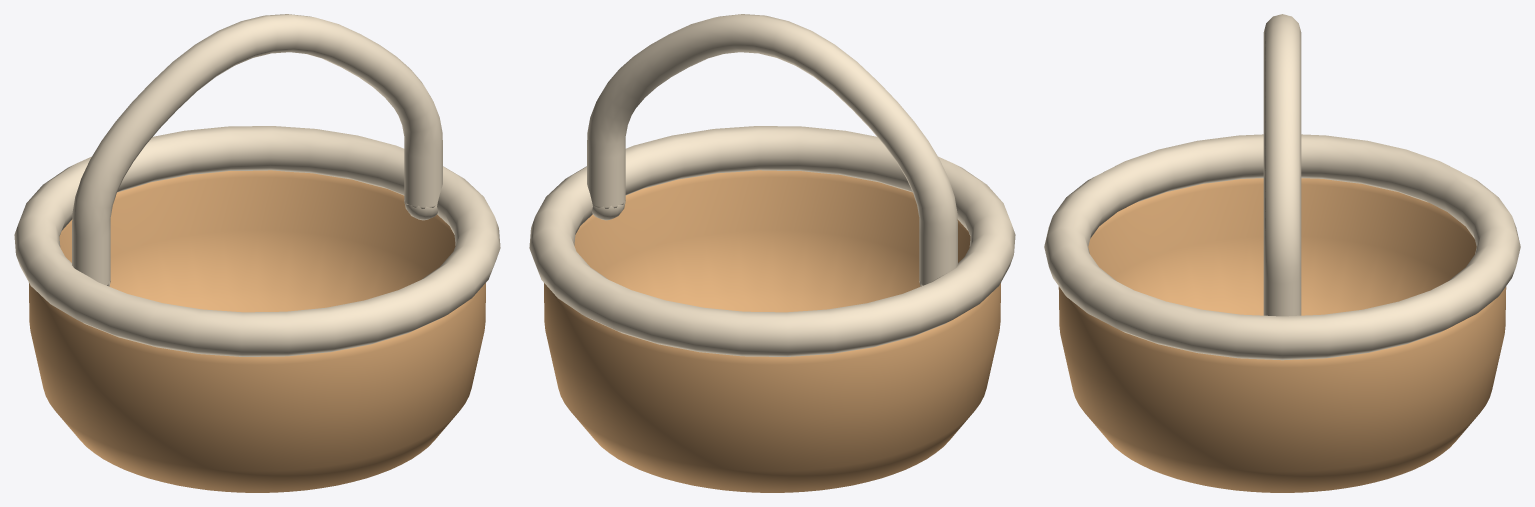
Rendered from basket_c.glb.
3 views of the same model, side by side, from view 1: azimuth 30°, elevation 25°; view 2: azimuth 150°, elevation 25°; view 3: azimuth 270°, elevation 25° (orthographic). The views are drawn at different scales.
Visible parts, largest first — view 1: body; view 2: body; view 3: body.
Boxes of the visible parts, x1,y1,x2,y2 form: body: (14,14,500,492); body: (529,14,1015,492); body: (1044,14,1520,492).
Bounding box in the file's own units: 0.3024 × 0.282 × 0.3024.
